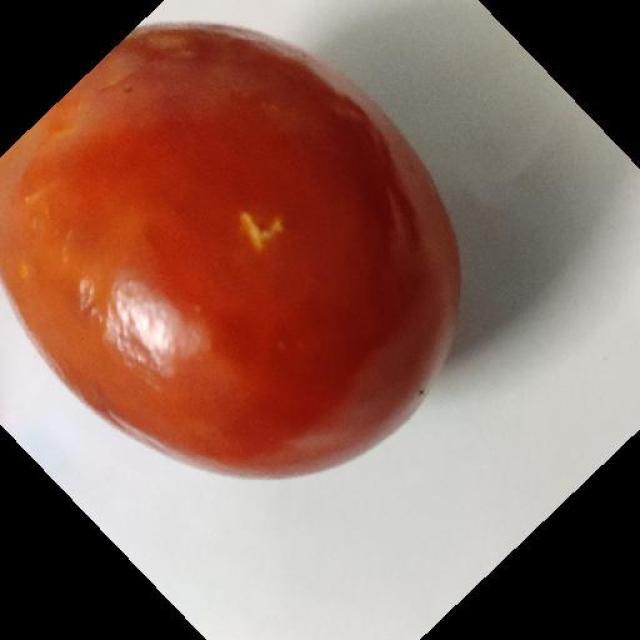Stale_tomato: (11, 26, 464, 460)
